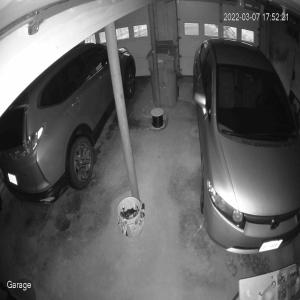garbage bin: (146, 39, 179, 109)
honda civic: (192, 38, 300, 256)
honda crv: (0, 42, 137, 206)
tool bucket: (117, 196, 145, 239)
